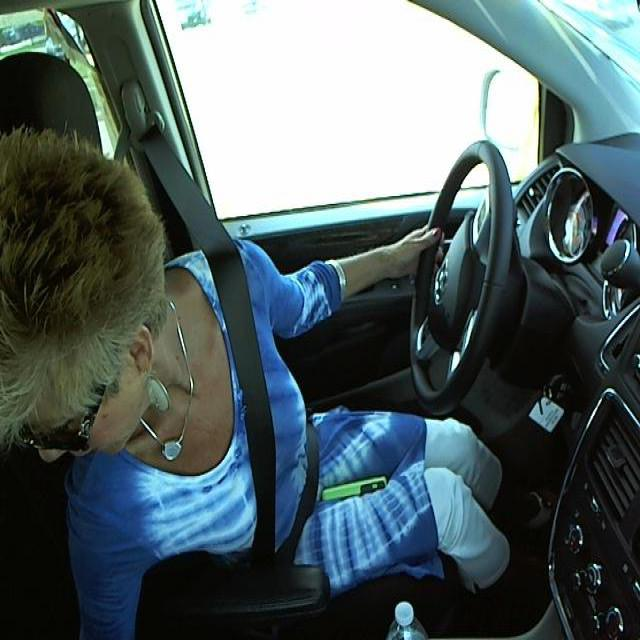seatbelt: (194, 255, 324, 569)
